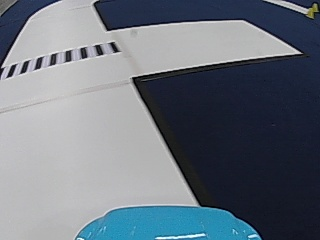CrossWalk: (7, 41, 118, 74)
